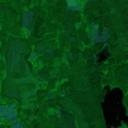alloviz: (99, 83, 128, 128), (95, 46, 111, 65)
